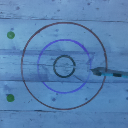Axe Tip: (90, 69, 101, 71)
